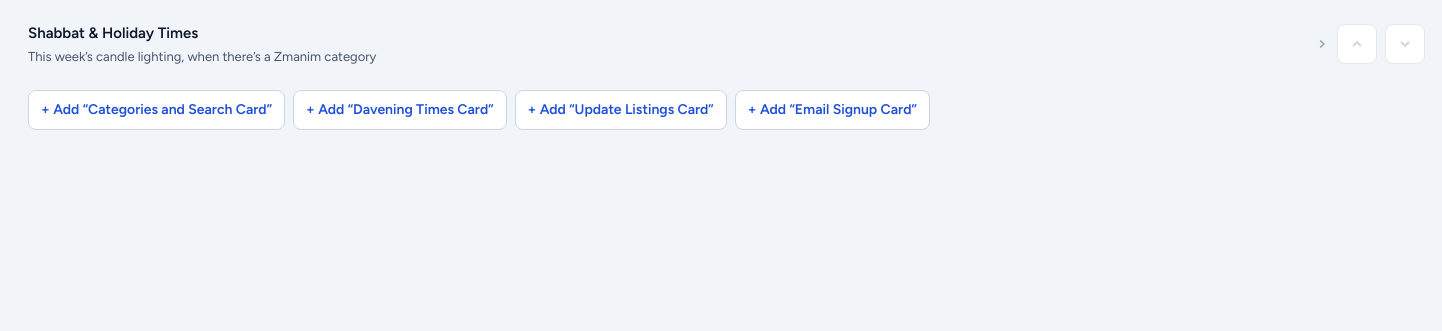
Test: DesktopTopicsManager › shows only a Heading input for the Jewish Times card, no Eyebrow field
The width and height of the screenshot is (1442, 331).
Step 1. Click the button that starts with "Shabbat & Holiday Times" → x=113, y=33, box [12, 12, 1329, 76]
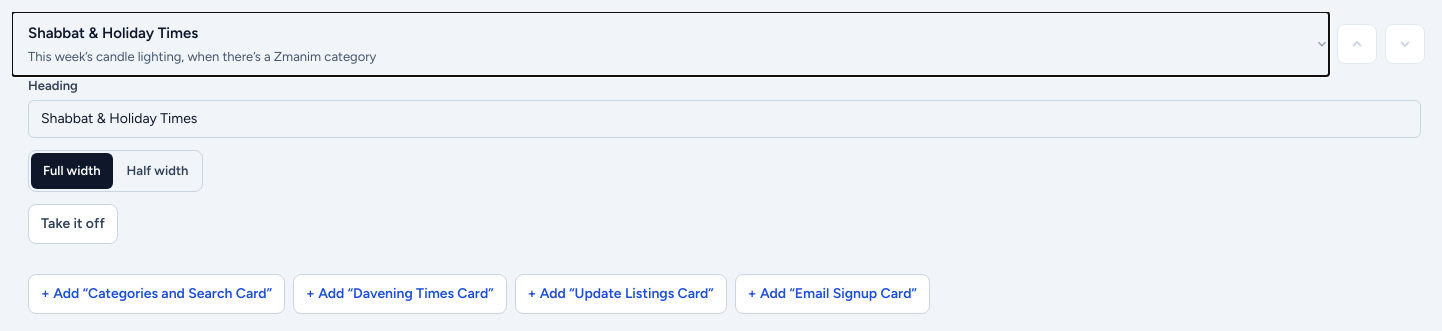
Check: the text "Heading" is shown, box [28, 78, 78, 93]
